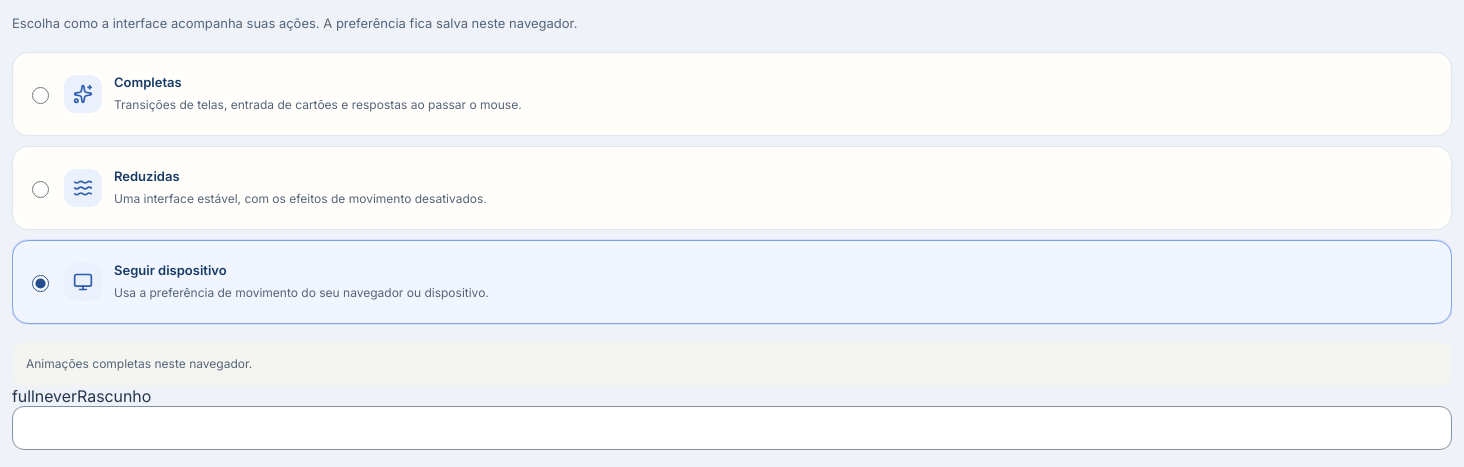
Test: preferências de animação da interface › permite reduzir animações em um dispositivo que normalmente as permite
Step 1. Click the radio button labelled "Reduzidas" → {"x": 40, "y": 190}, box left=32, top=181, right=49, bottom=198
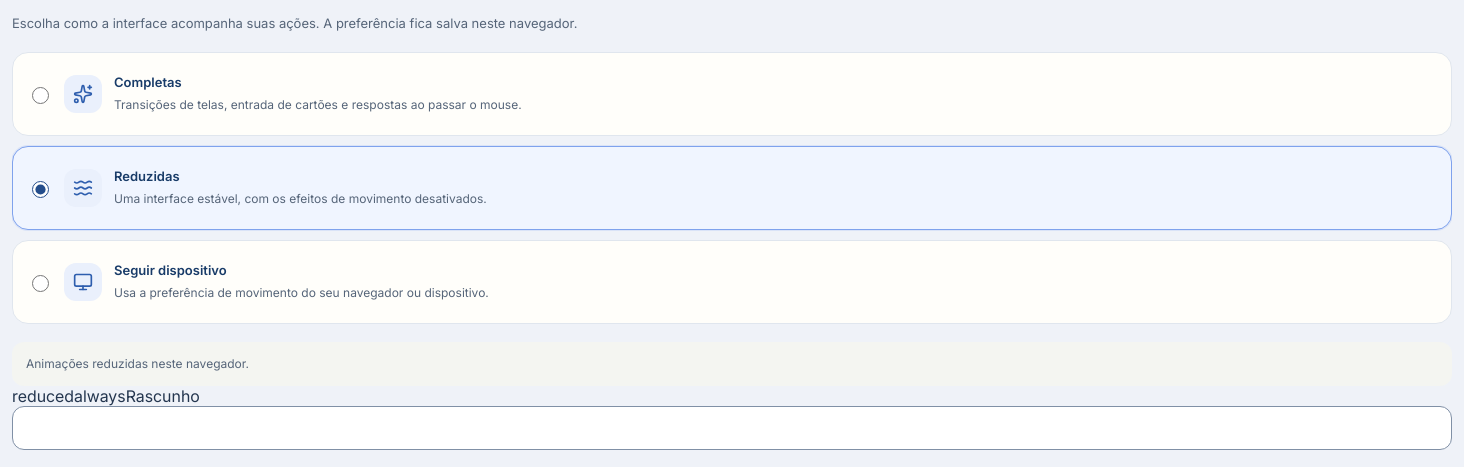
Now the text with test id "resolved" reads "reduced", box left=12, top=386, right=74, bottom=406
Now the text with test id "framer" reads "always", box left=74, top=386, right=126, bottom=406
